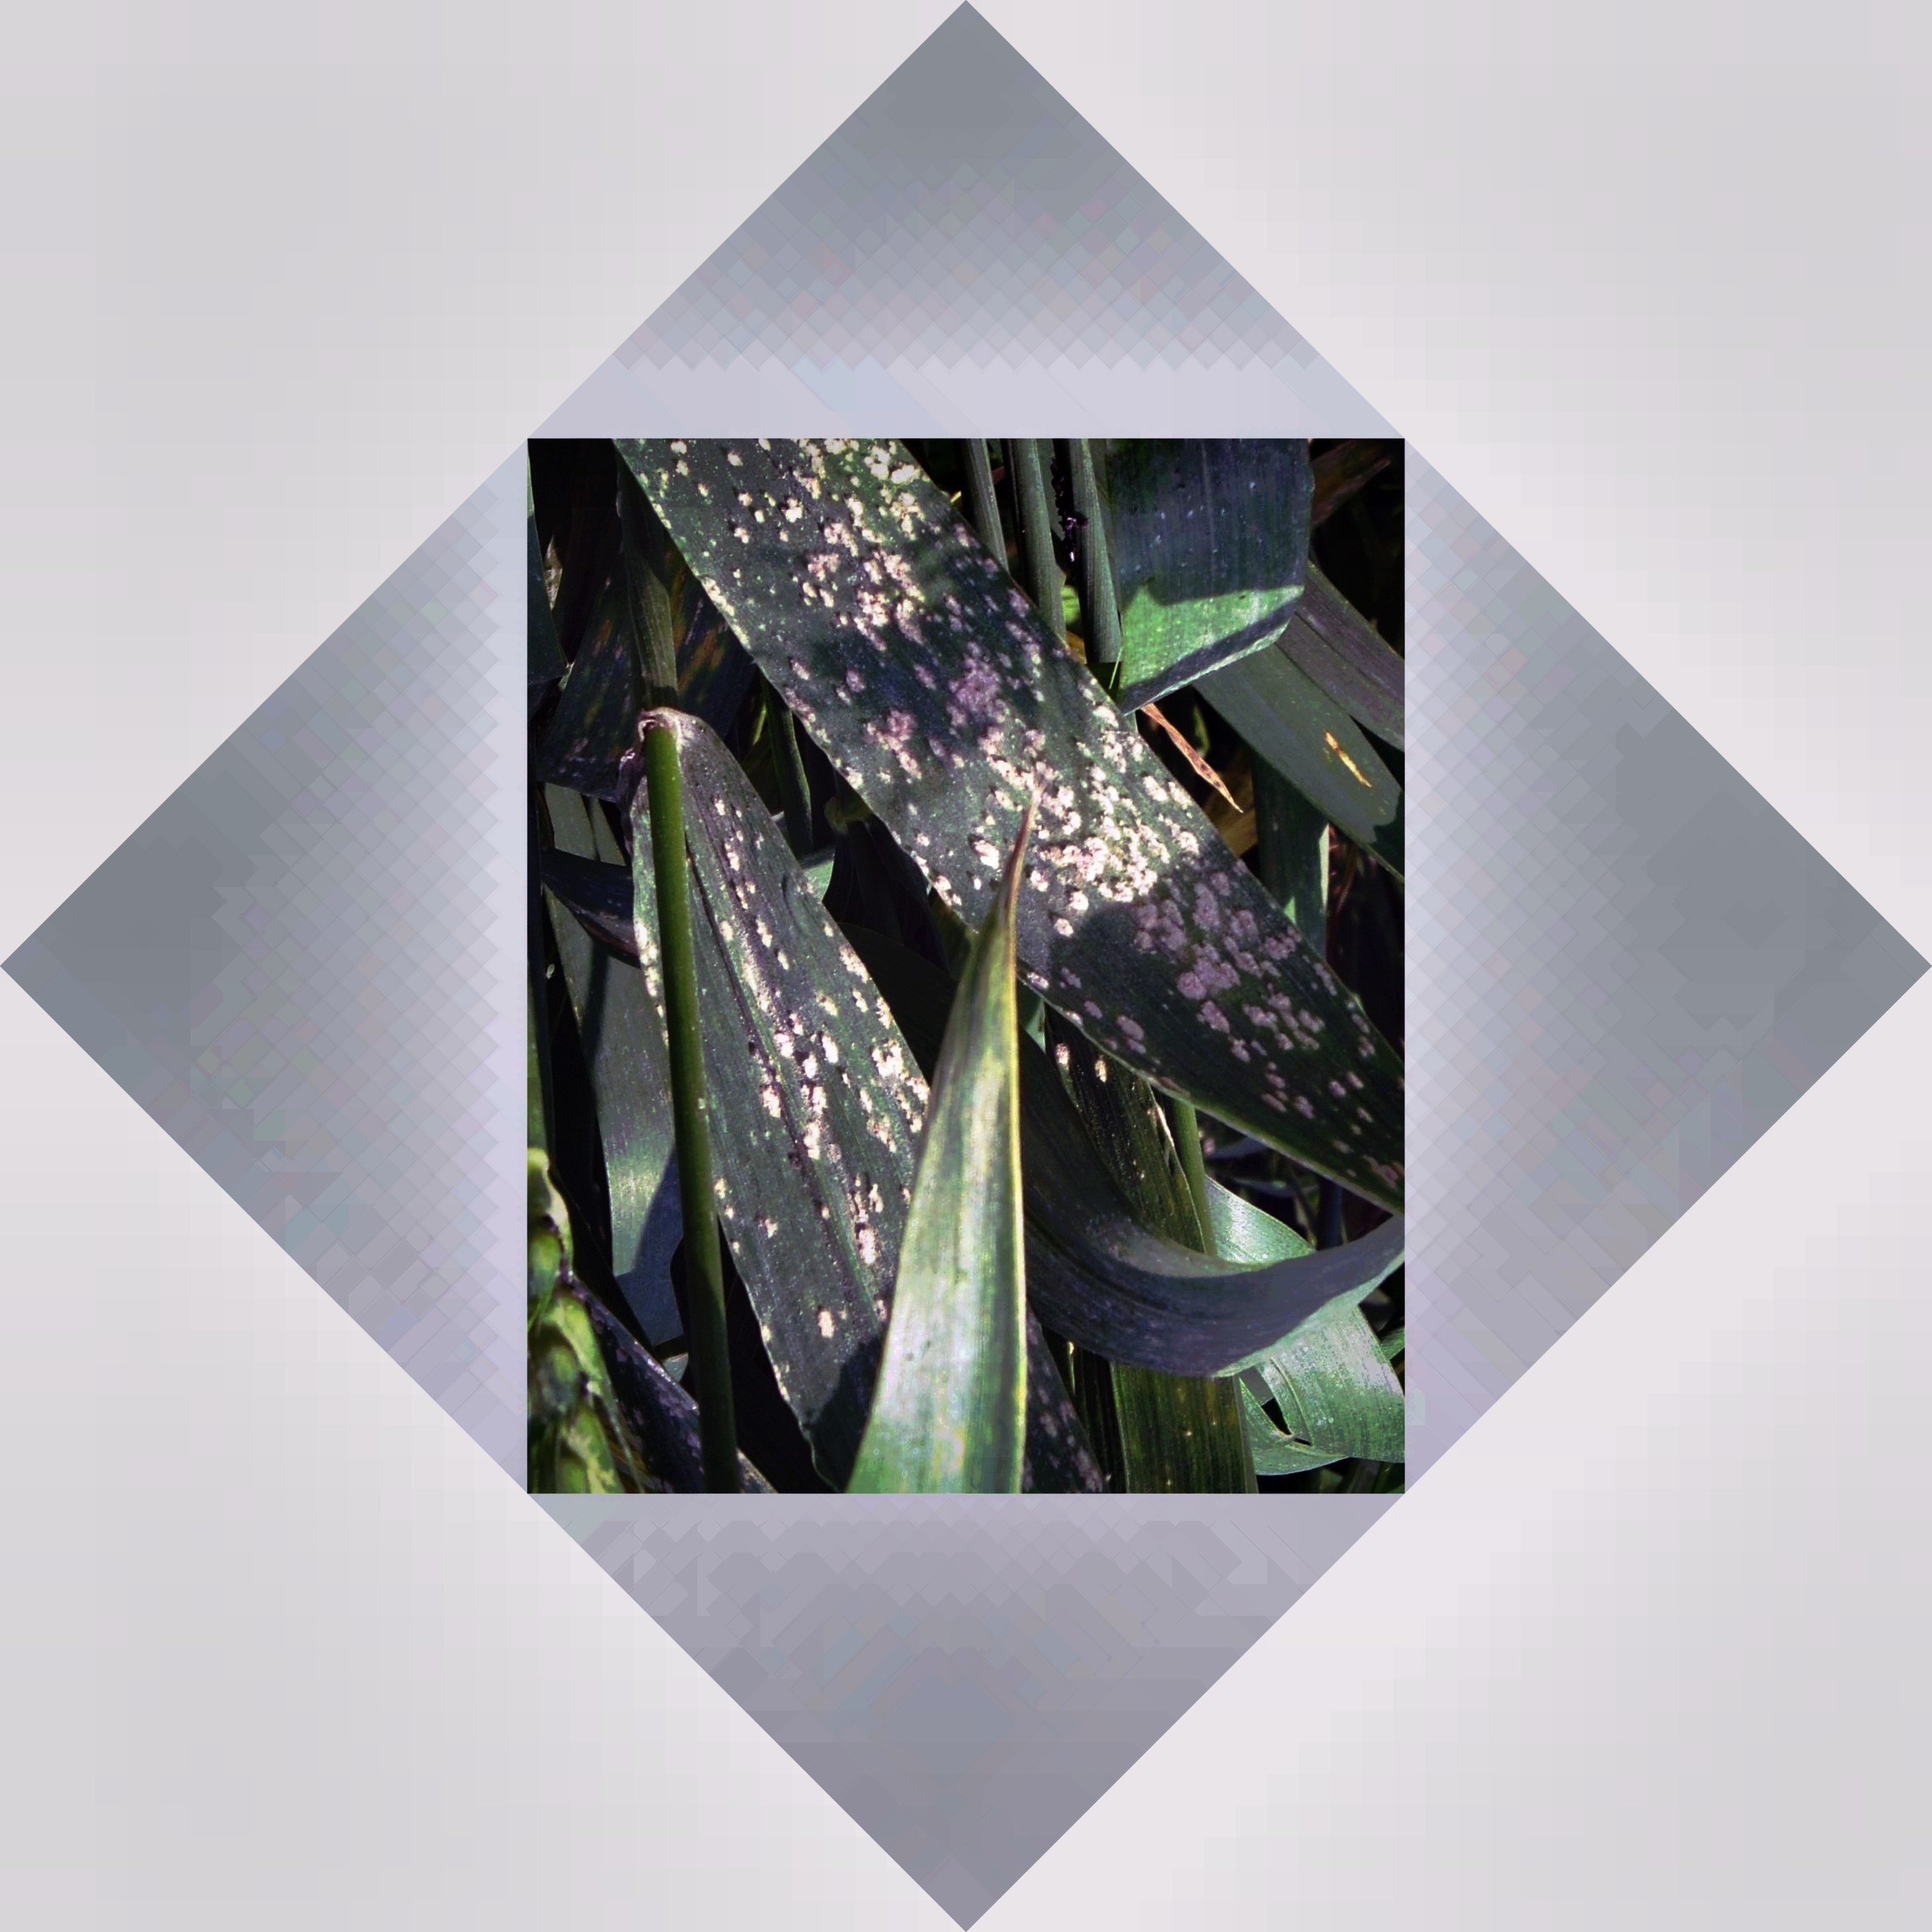Powdery Mildew: (773, 460, 1391, 1146)
